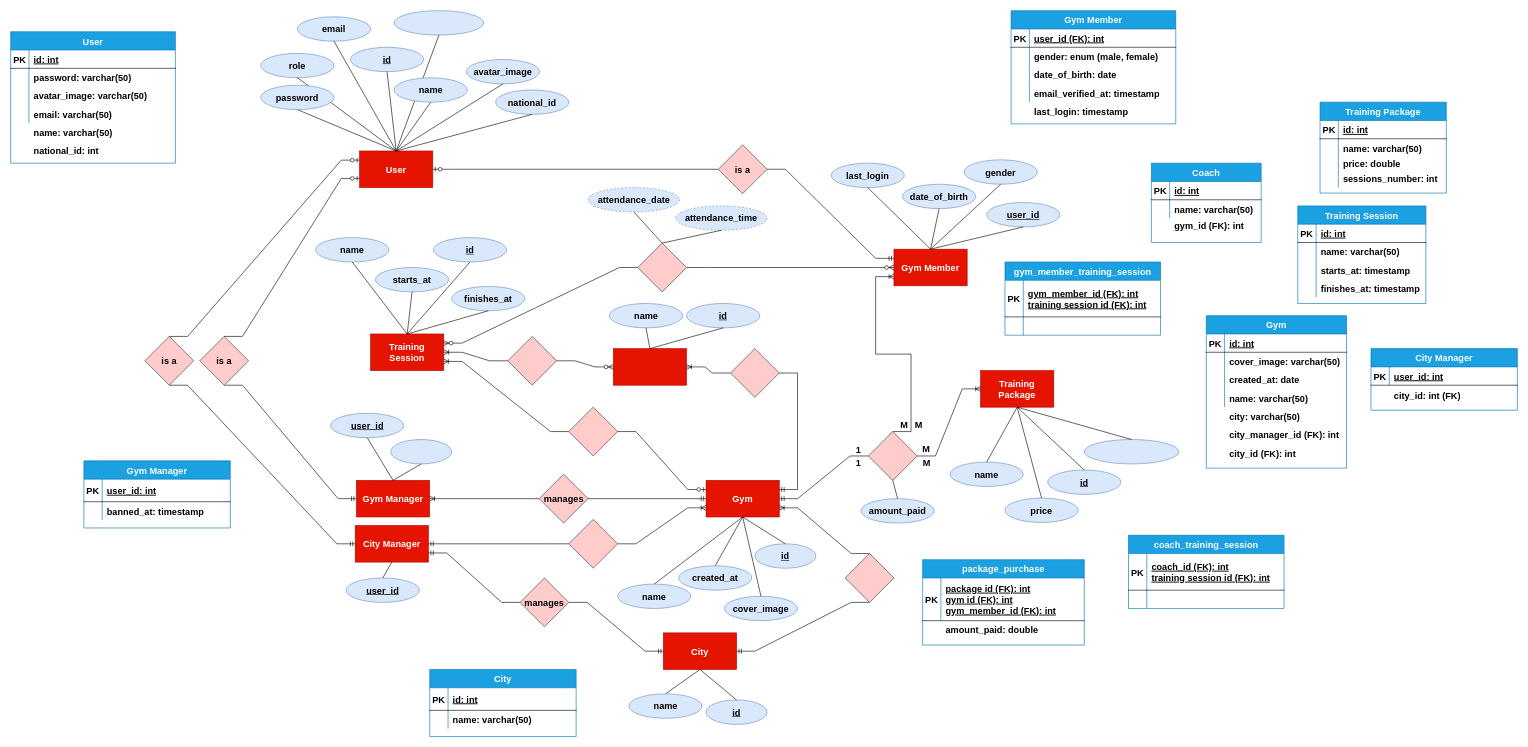
Image size: 1528x747. Some labels were removed from this diagram. Here are the shapes that lost their labels. From the top down, the centre of each, then its label:
point (438, 22): email_verified_at
point (662, 267): attends
point (532, 360): train
point (650, 366): Coaches
point (754, 372): work_on
point (421, 451): banned_at
point (593, 431): has
point (1131, 451): sessions_number
point (892, 455): purchase
point (593, 543): supervise
point (869, 577): has a
